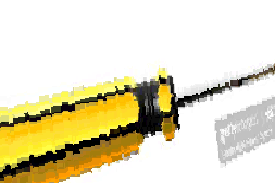Screwdriver: (4, 63, 275, 183)
